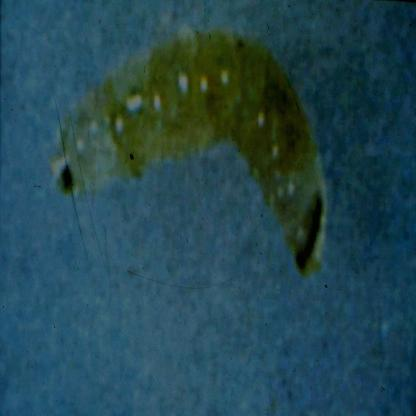whorl-maggot: (50, 26, 328, 281)
